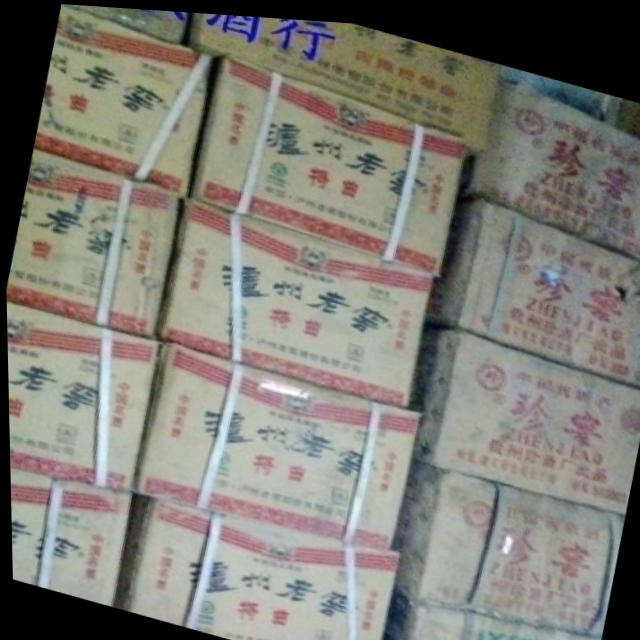box: (190, 52, 467, 270), (130, 338, 419, 545), (153, 195, 432, 402), (405, 318, 640, 508), (185, 10, 498, 152), (112, 491, 398, 640), (390, 454, 622, 630), (424, 191, 640, 379), (32, 3, 210, 192), (5, 147, 180, 337), (464, 72, 640, 250), (5, 303, 158, 490), (8, 469, 128, 606), (379, 587, 598, 640), (67, 3, 189, 42)
